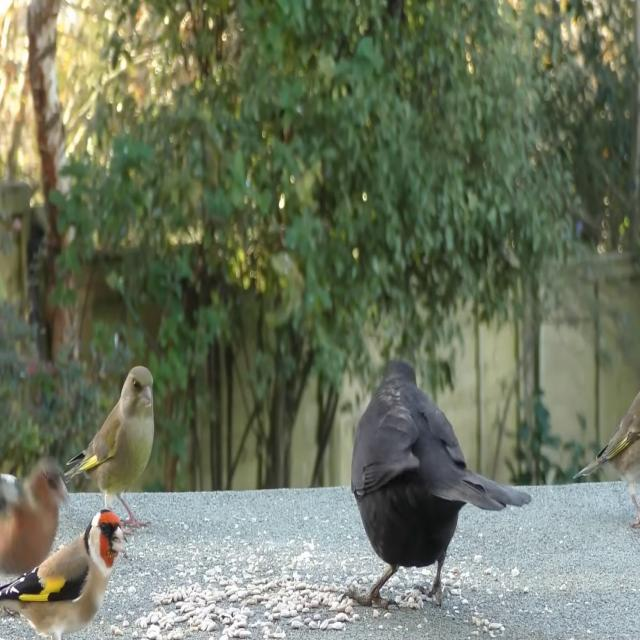beak: (111, 525, 128, 555), (57, 476, 69, 504), (141, 384, 153, 407)
bird: (338, 354, 534, 618), (0, 509, 127, 640), (59, 366, 158, 528), (574, 359, 640, 540), (0, 442, 61, 580)
